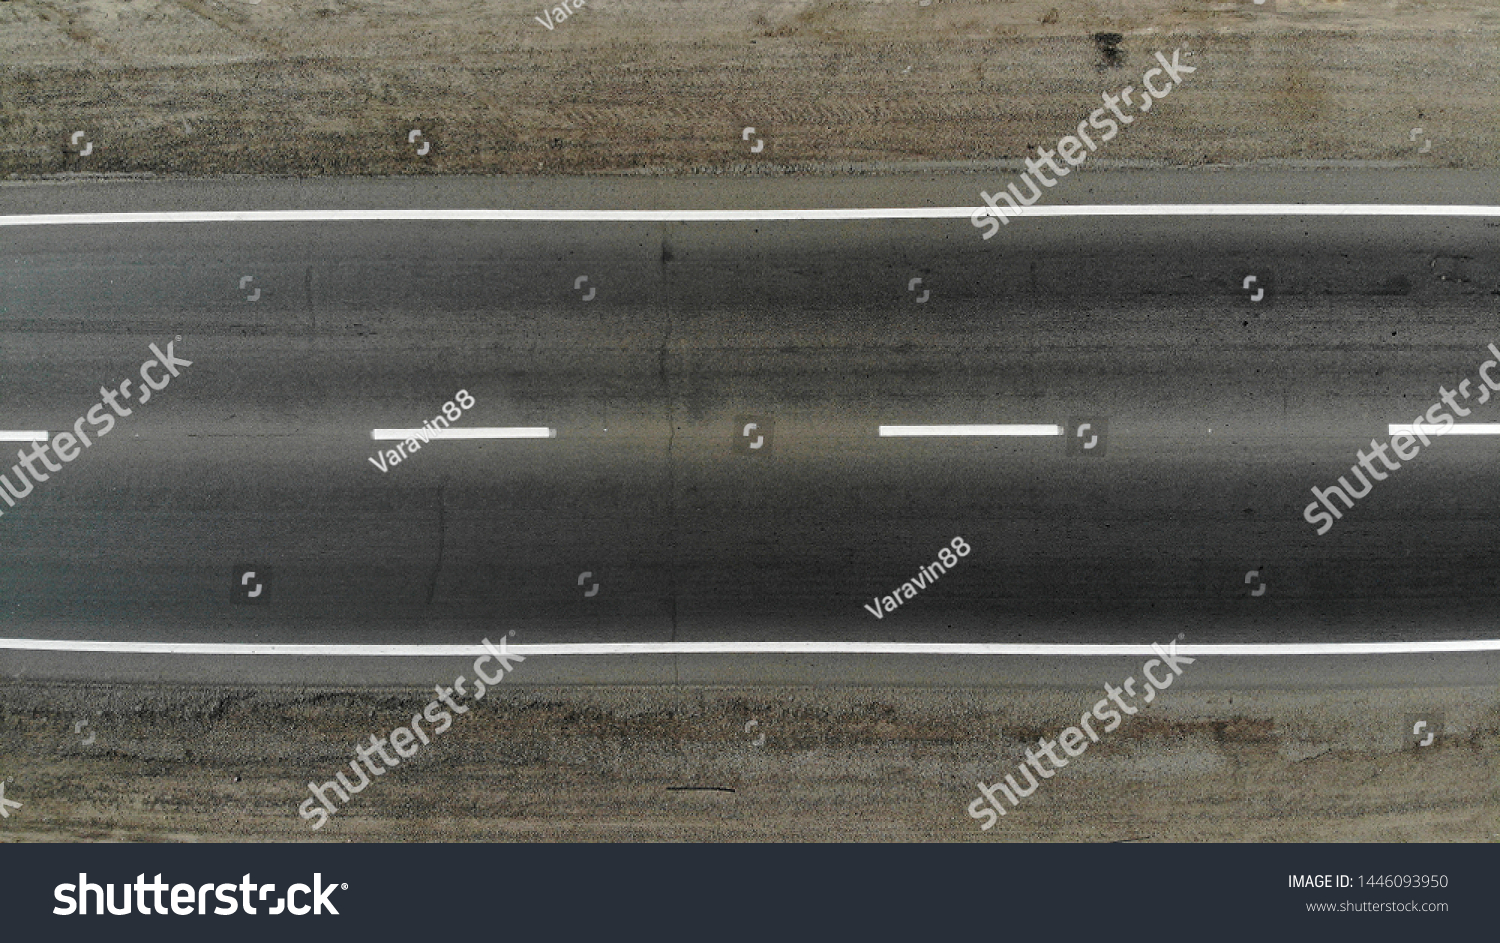LaneMark: (7, 632, 1500, 662), (4, 201, 1500, 227), (877, 422, 1061, 439), (371, 427, 552, 442), (1385, 422, 1500, 436), (1, 427, 52, 447)
